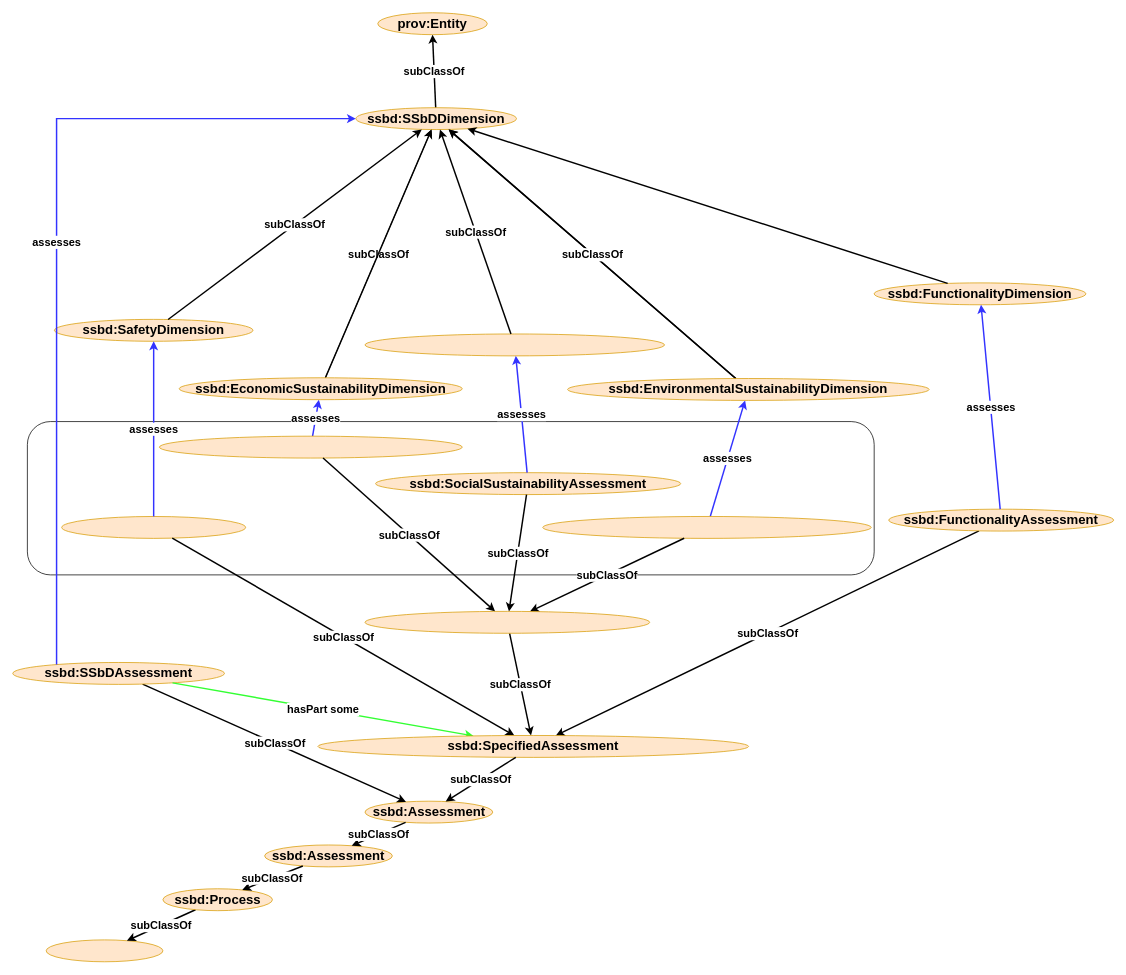
Image size: 1126x975. Some labels were removed from this diagram. The centre of each missing label's shape, as x and y in pixels:
"prov:Activity" goes at [104,950].
"ssbd:EconomicSustainabilityAssessment" goes at [310,446].
"ssbd:EnvironmentalSustainabilityAssessment" goes at [706,527].
"ssbd:SafetyAssessment" goes at [153,527].
"ssbd:SocialSustainabilityDimension" goes at [514,344].
"ssbd:SustainabilityAssessment" goes at [507,622].
